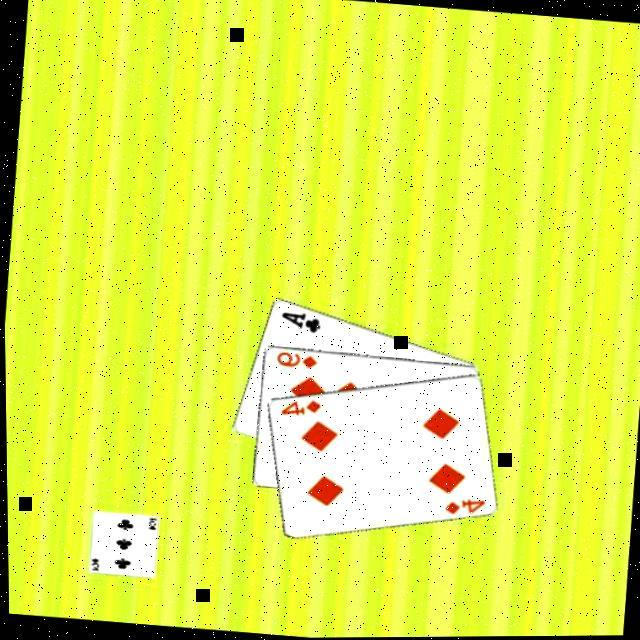4D: (436, 494, 484, 521), (274, 394, 320, 421)
9D: (269, 349, 316, 372)
AC: (273, 308, 321, 336)
